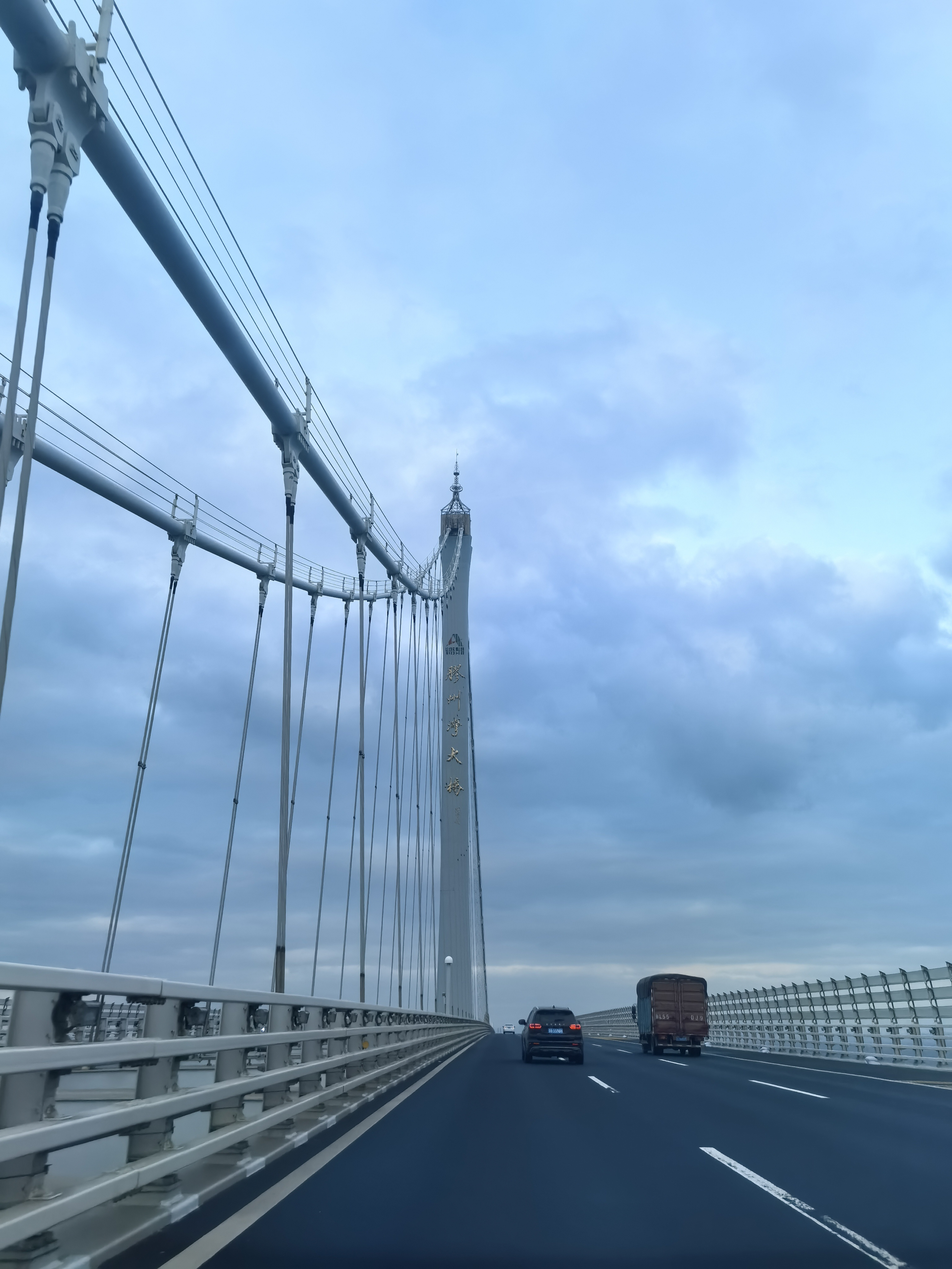lane: (164, 1049, 434, 1269), (694, 1139, 899, 1269), (735, 1072, 835, 1102), (579, 1075, 621, 1095), (662, 1059, 688, 1068)
